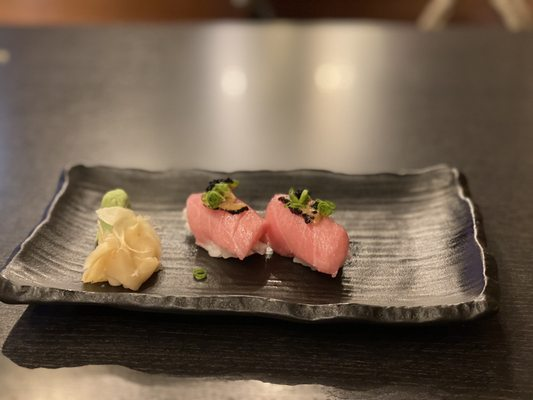burger: (0, 168, 68, 283)
